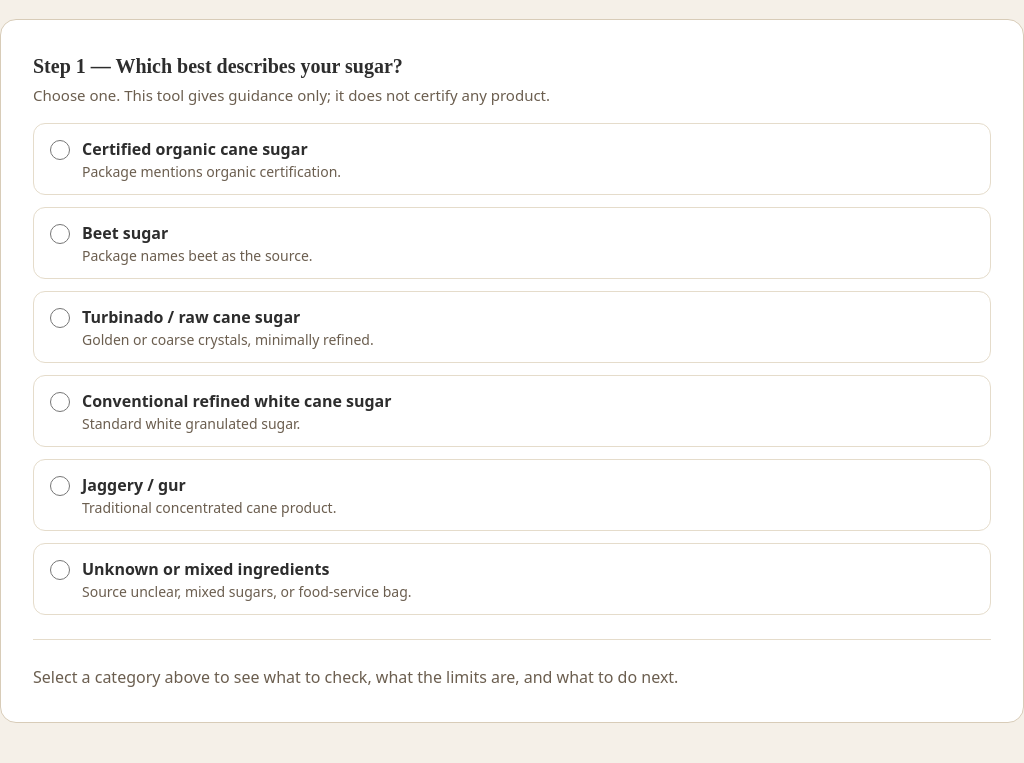
Scenario: sugar checker interaction › start over clears the selection
The width and height of the screenshot is (1024, 763).
Click the radio button labelled "Jaggery / gur Traditional concentrated cane product." at coordinates (60, 486), box x1=50 y1=476 x2=70 y2=496
(page scrolled)
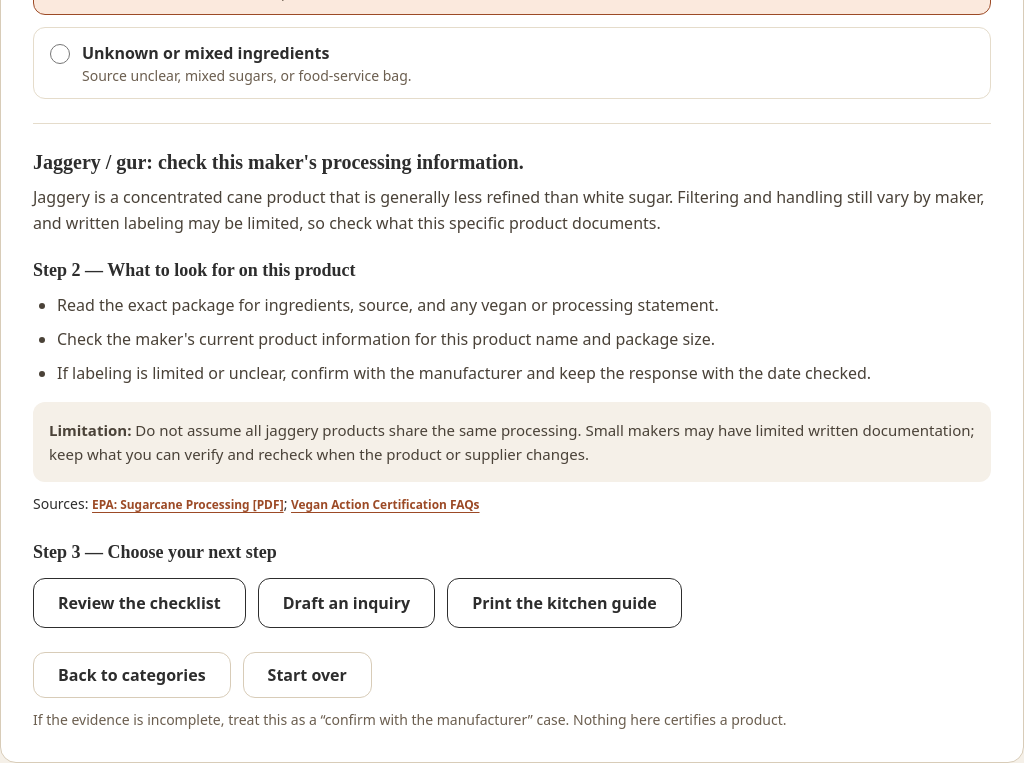
Result: the heading "Jaggery / gur: check this maker's processing information." is shown at x1=33 y1=150 x2=524 y2=172
Click the button "Start over" at coordinates (307, 675), box x1=243 y1=652 x2=372 y2=698
(page scrolled)
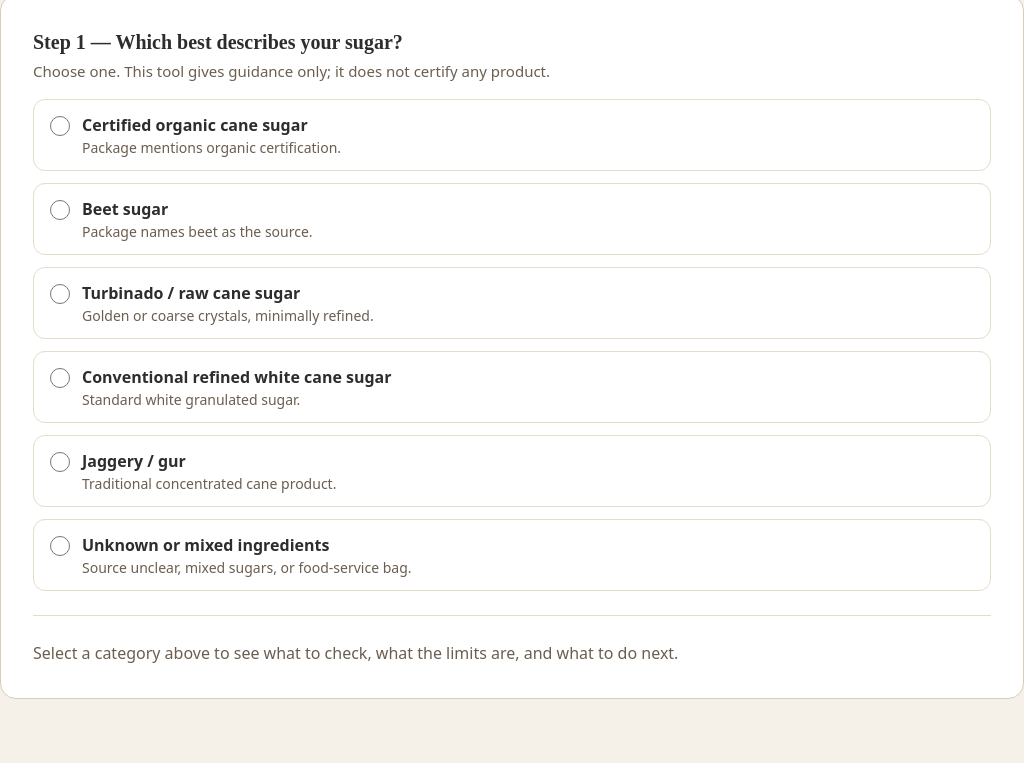
Result: the text "Select a category above" is shown at x1=33 y1=642 x2=678 y2=664
Result: the heading "check this maker's processing information" is gone
